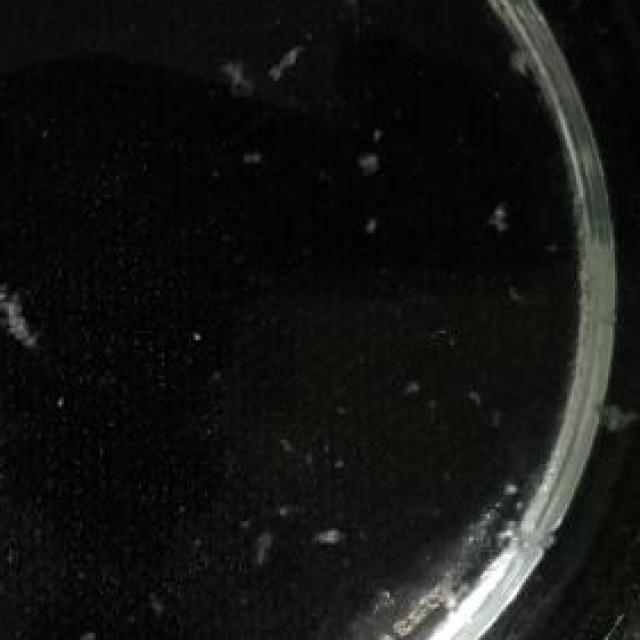Microplastic: (0, 269, 55, 352), (203, 36, 253, 110), (269, 23, 314, 98), (599, 383, 640, 445), (504, 31, 544, 90), (355, 138, 392, 193), (474, 198, 526, 235), (241, 526, 278, 568), (314, 524, 353, 554)
